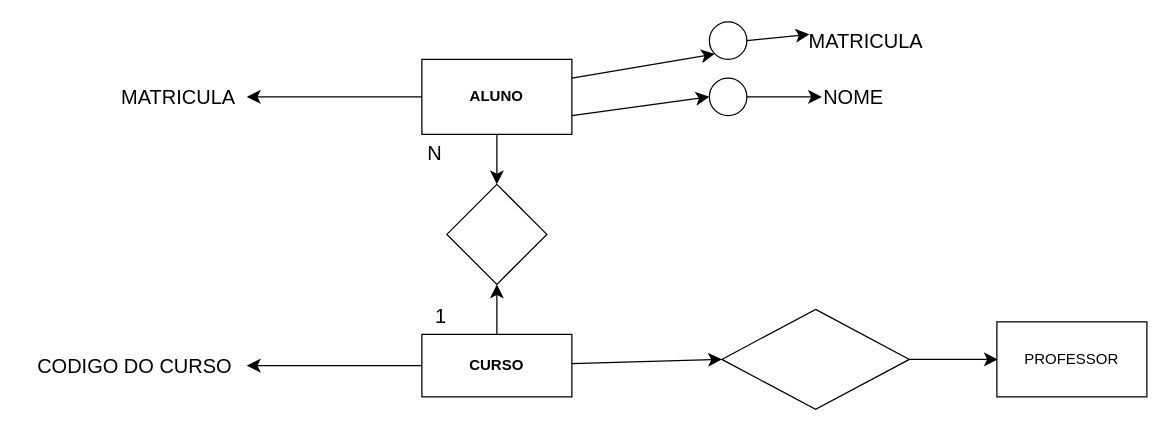
The diagram is 1169 pixels wide and 431 high, and some of its shapes have lost their labels. Here are the shapes that lost their labels. From the top down, the box of each, then its label:
(446, 183, 547, 284): POSSUI
(721, 308, 909, 409): COORDENA
